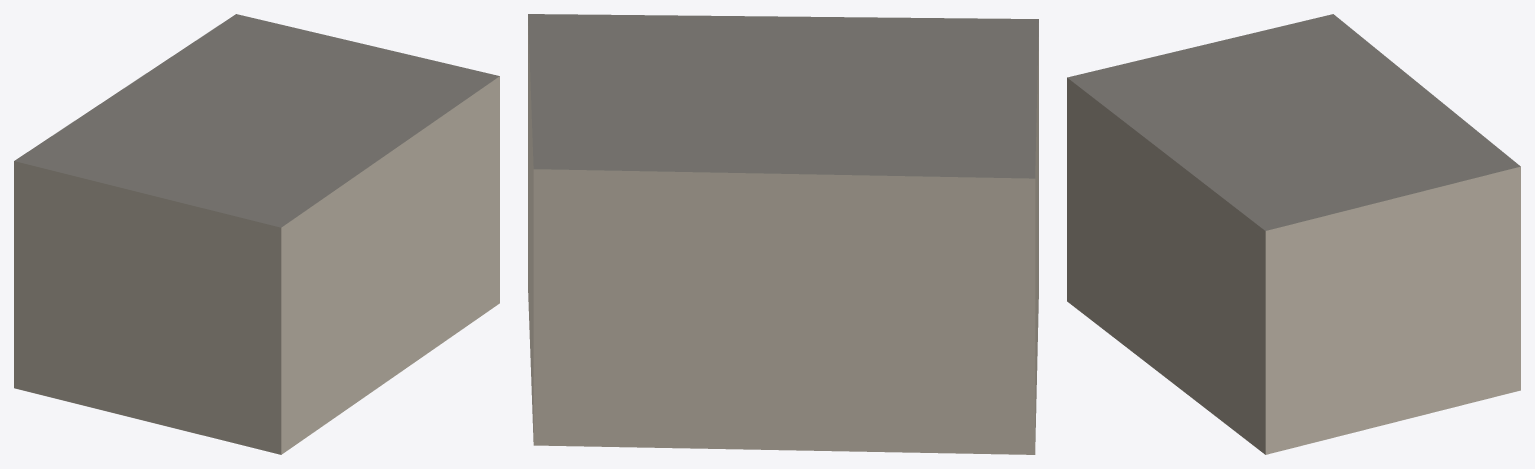
3 views of the same model, side by side, from view 1: azimuth 30°, elevation 25°; view 2: azimuth 150°, elevation 25°; view 3: azimuth 270°, elevation 25° (orthographic). The views are drawn at different scales.
Visible parts, largest first — view 1: HP-w505633366; view 2: HP-w505633366; view 3: HP-w505633366.
Boxes of the visible parts, box(x1,y1,x2,y2) form: HP-w505633366: box(14, 14, 499, 454); HP-w505633366: box(528, 14, 1038, 454); HP-w505633366: box(1067, 14, 1520, 454).
Bounding box in the file's own units: 37.42 × 18 × 33.06.
